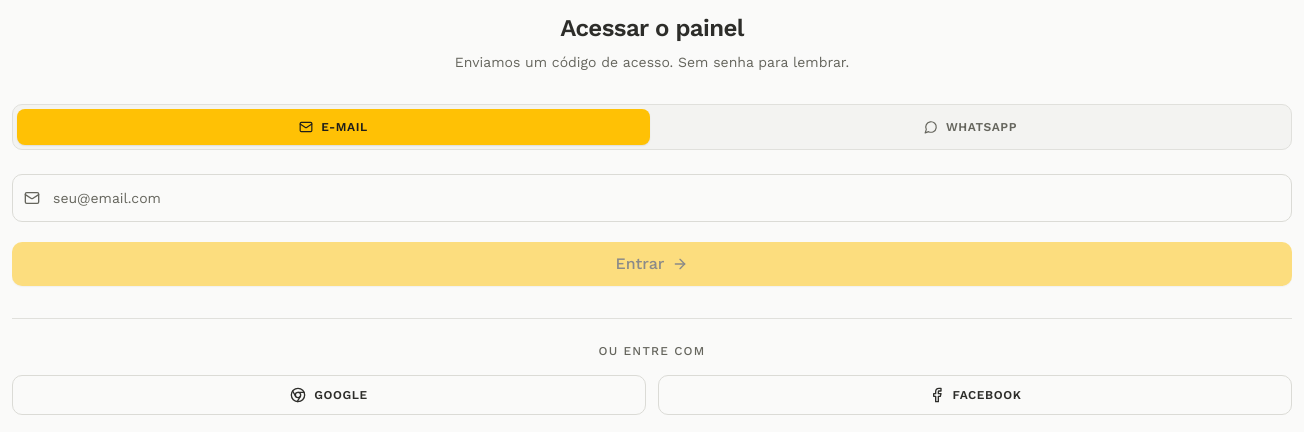
Test case: S1 9.4.2 — o login em etapas nas duas abas › "Voltar para o login" desfaz a etapa — o fluxo anda nos dois sentidos
Type "fulana@example.com" into the field named "E-mail" at (652, 198), box [12, 174, 1292, 222]
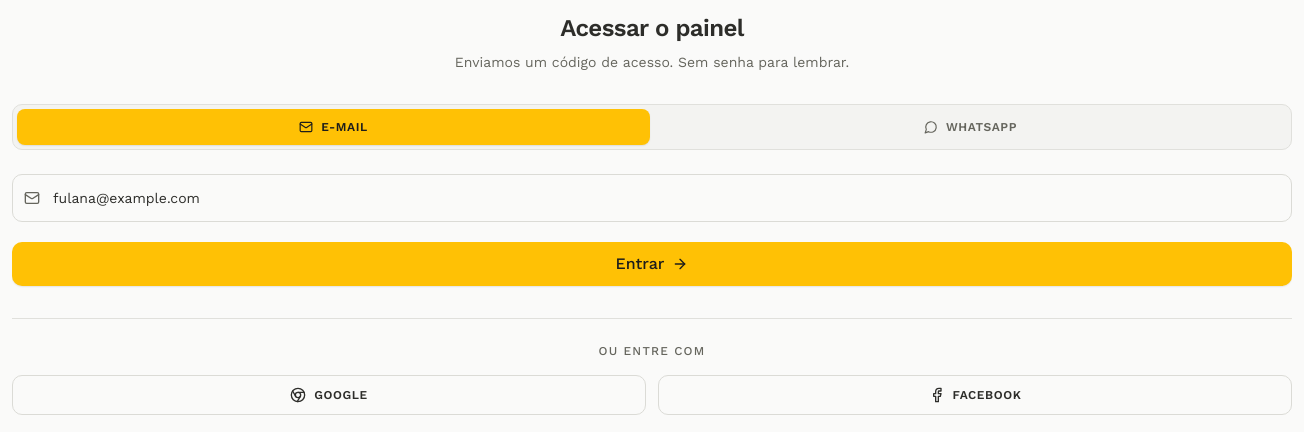
Click the 1st button named "entrar" at (652, 264), box [12, 242, 1292, 286]
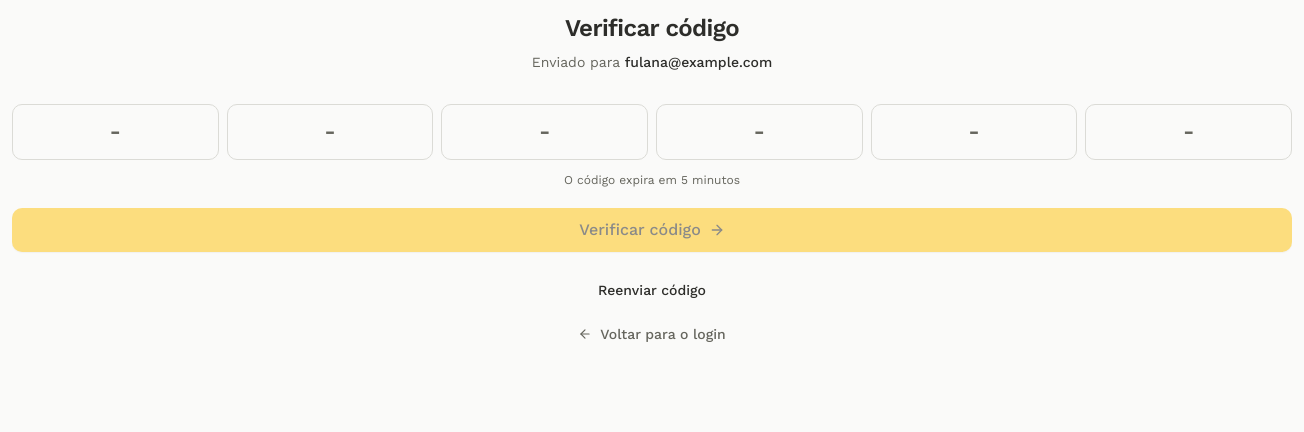
Expected: the heading "Verificar código" is shown, [565, 14, 739, 42]
Click the 3rd button named "voltar para o login" at (652, 334), box [12, 316, 1292, 352]
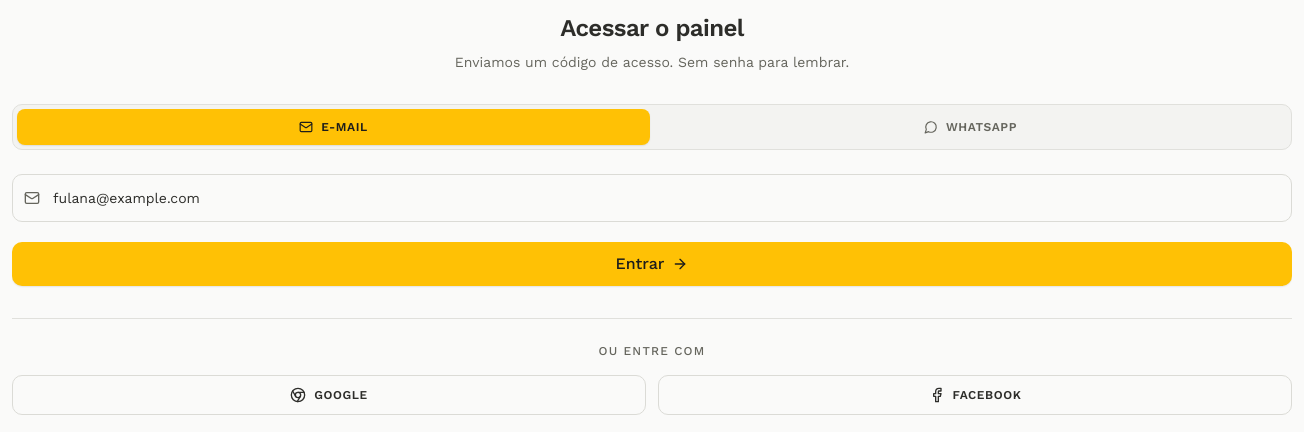
Expected: the heading "Acessar o painel" is shown, [560, 14, 744, 42]
